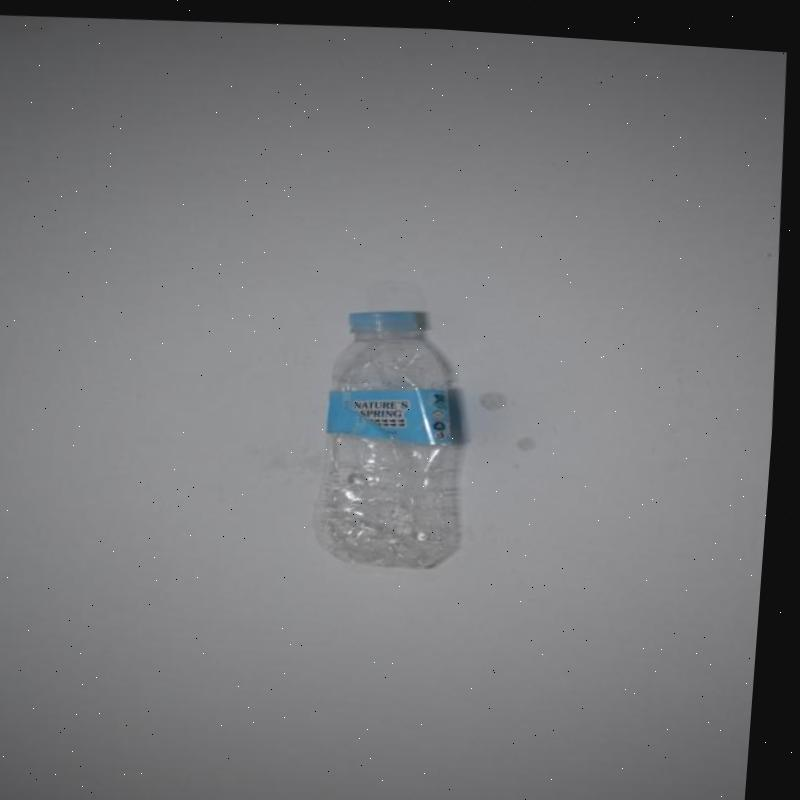botella: (315, 297, 479, 566)
